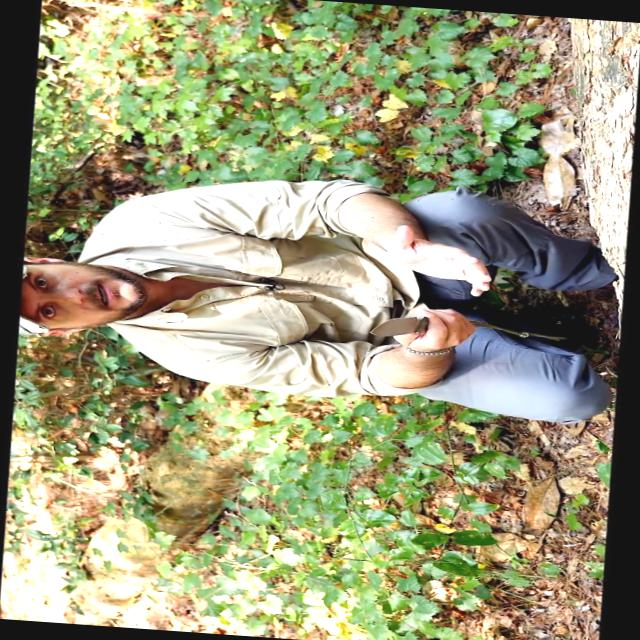knife: (353, 297, 482, 348)
